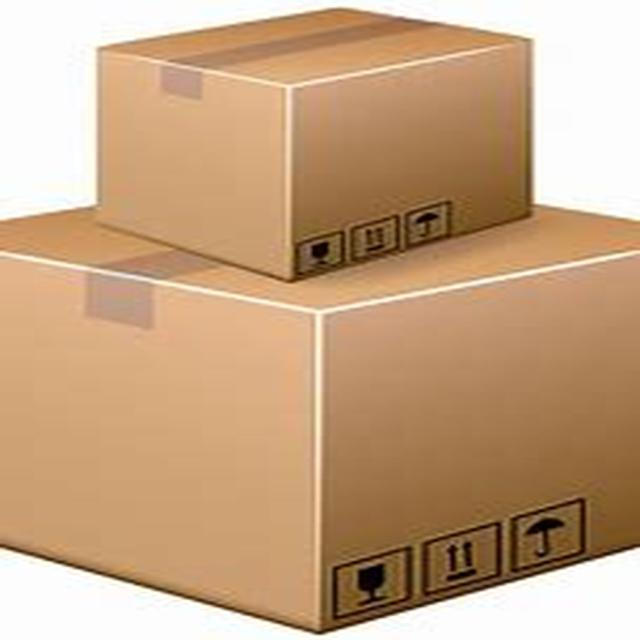box: (13, 210, 640, 614), (80, 12, 562, 246)
